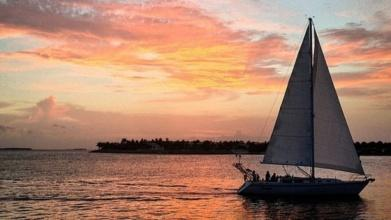fanchuan: (237, 19, 378, 192)
